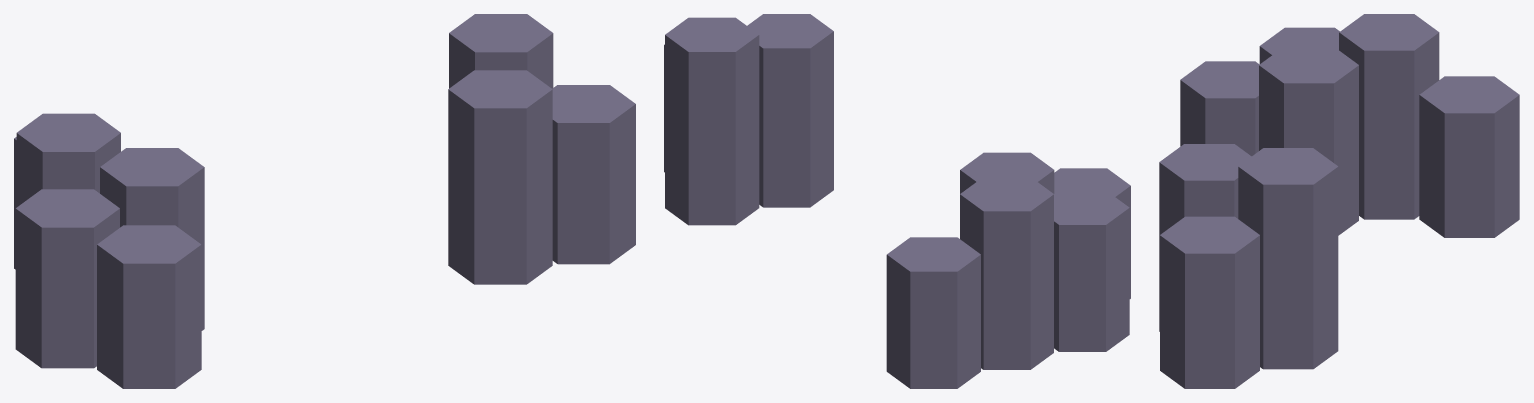
Rendered from rock-3.glb.
3 views of the same model, side by side, from view 1: azimuth 30°, elevation 25°; view 2: azimuth 150°, elevation 25°; view 3: azimuth 270°, elevation 25° (orthographic). The views are drawn at different scales.
Visible parts, largest first — view 1: basaltRocksPhysicalStatic; view 2: basaltRocksPhysicalStatic; view 3: basaltRocksPhysicalStatic.
Boxes of the visible parts, x1,y1,x2,y2 form: basaltRocksPhysicalStatic: [14, 14, 635, 388]; basaltRocksPhysicalStatic: [664, 14, 1130, 388]; basaltRocksPhysicalStatic: [1159, 14, 1519, 388].
Bounding box in the file's own units: 8.97 × 3.5 × 5.38.
Materials: 1 (1 with a texture image).
